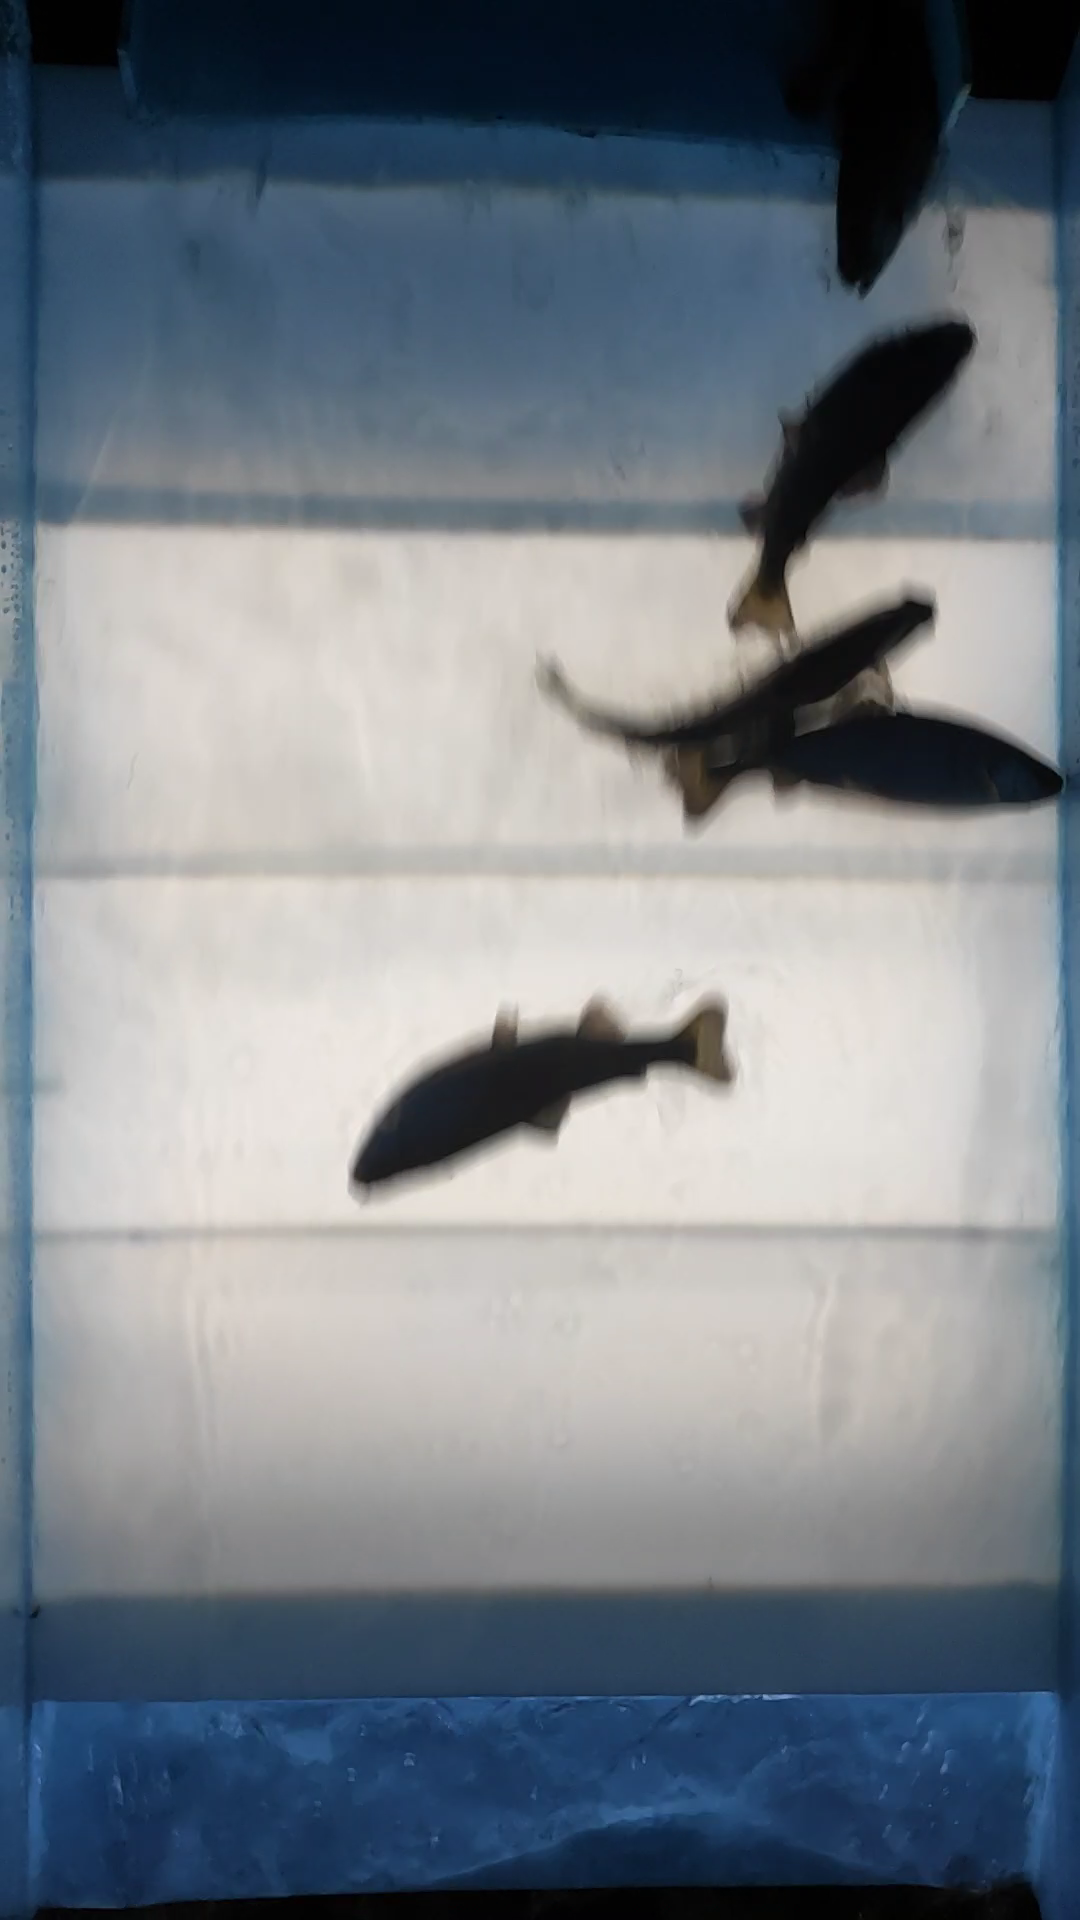fish: (710, 312, 981, 648), (345, 986, 736, 1201), (522, 589, 948, 756), (651, 692, 1066, 827)
